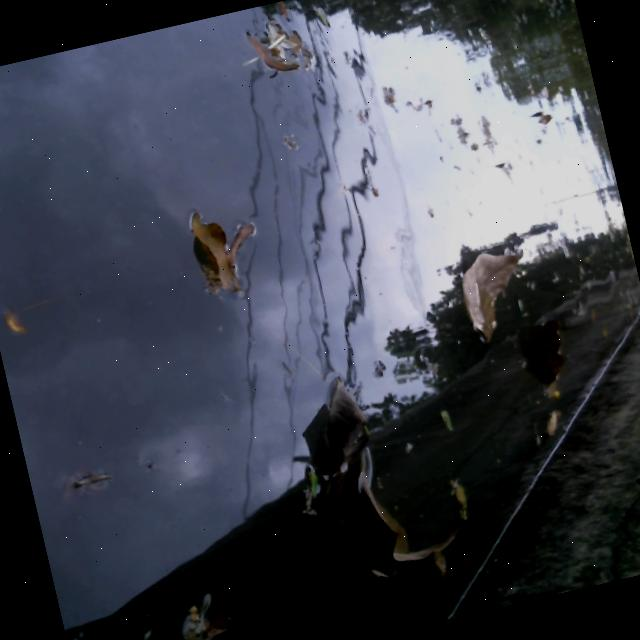Big-leaf: (332, 442, 432, 594), (444, 240, 537, 342), (306, 366, 387, 477), (525, 315, 590, 398), (181, 209, 239, 294)
Small-leaf: (211, 222, 270, 295), (166, 592, 245, 640), (49, 456, 119, 506), (285, 456, 338, 522), (238, 30, 292, 86), (0, 291, 53, 342), (423, 532, 466, 583), (437, 474, 477, 526), (278, 16, 310, 66), (531, 408, 572, 444), (373, 79, 414, 114), (469, 113, 500, 157), (526, 102, 557, 139), (306, 0, 336, 32), (274, 125, 305, 154), (431, 406, 459, 435), (130, 623, 162, 640), (64, 625, 97, 640)
